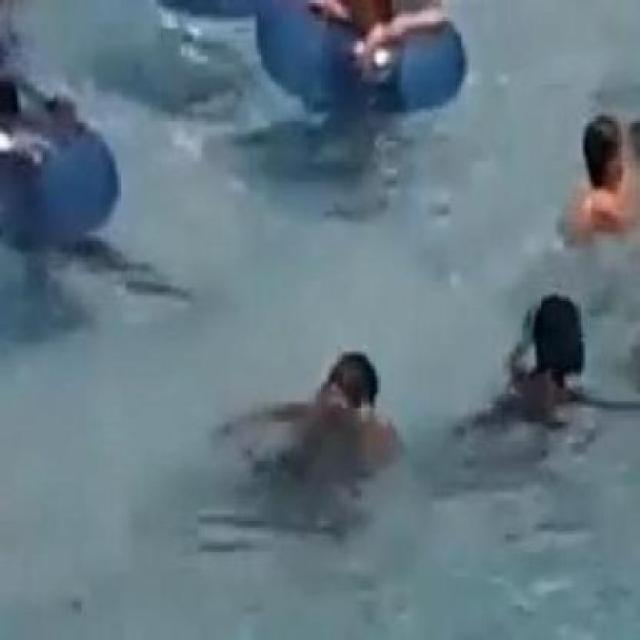drowning: (494, 300, 598, 431), (302, 354, 386, 458), (576, 114, 636, 257)
